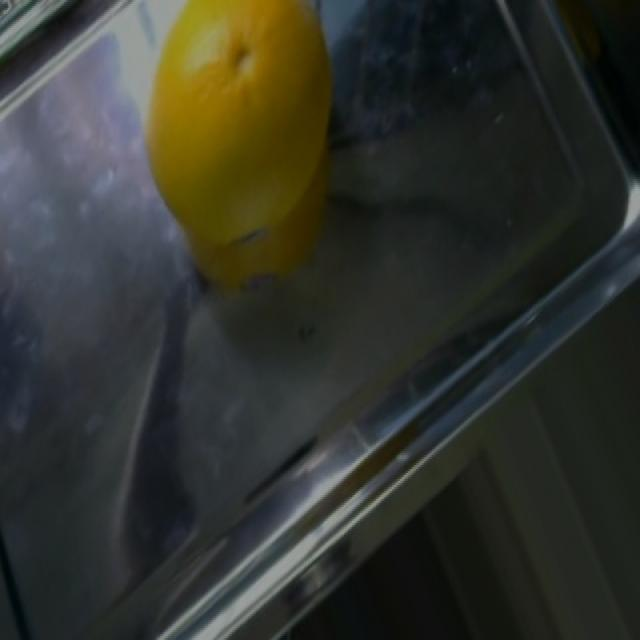Fruit: (132, 0, 365, 312)
